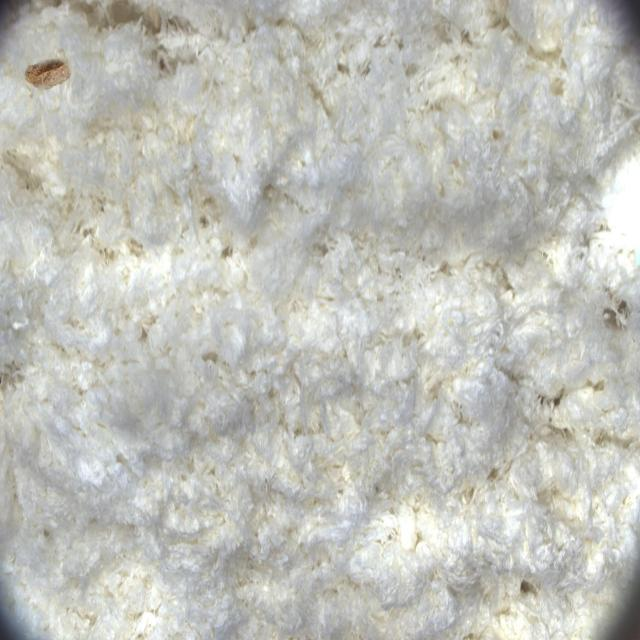dust: (5, 31, 84, 118)
